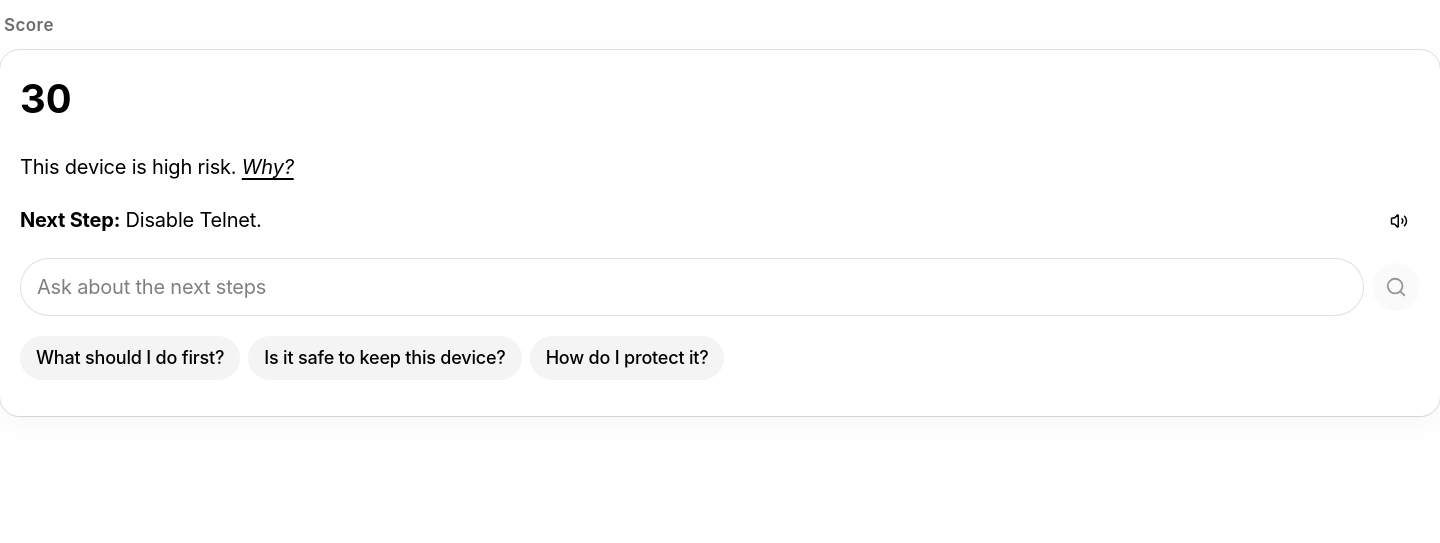
Test: retains a failed question so the user can retry
The image size is (1440, 543).
Click the button "How do I protect it?" at (627, 358), box [530, 336, 724, 380]
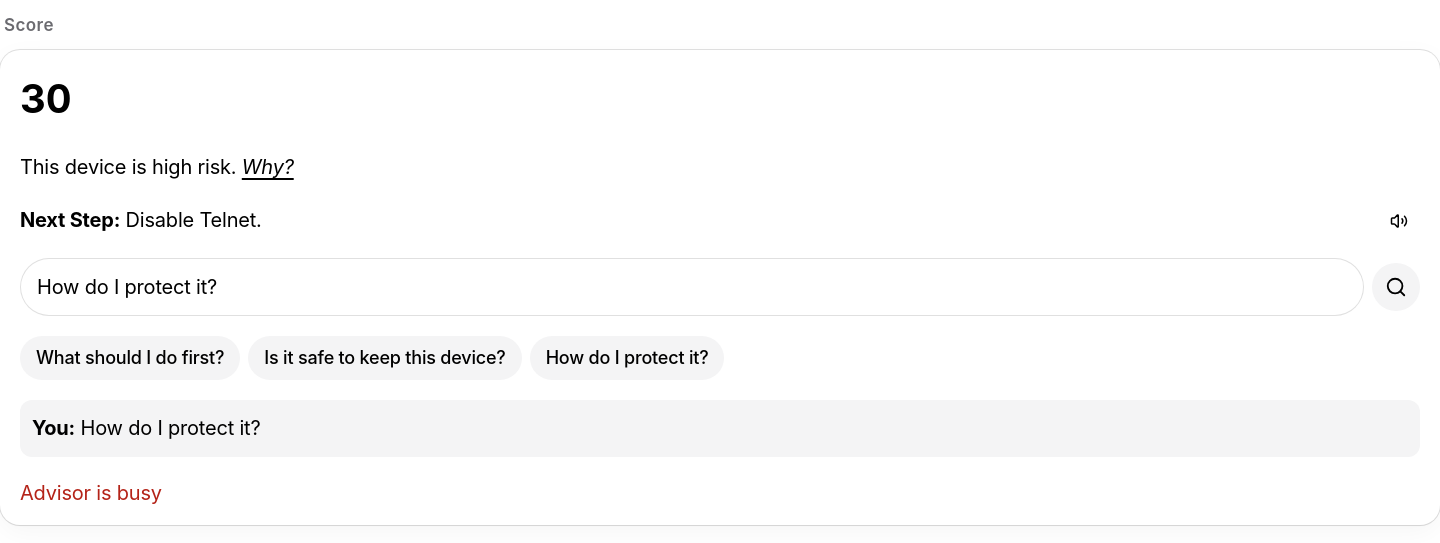
Expected: the message reads "Advisor is busy", [20, 481, 162, 505]
Expected: the field named "Ask about the next steps" holds "How do I protect it?", [20, 258, 1364, 316]
